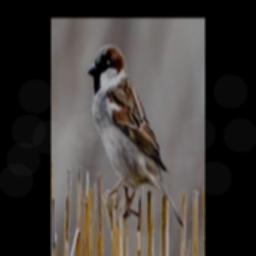Sparrow: (87, 43, 184, 227)
